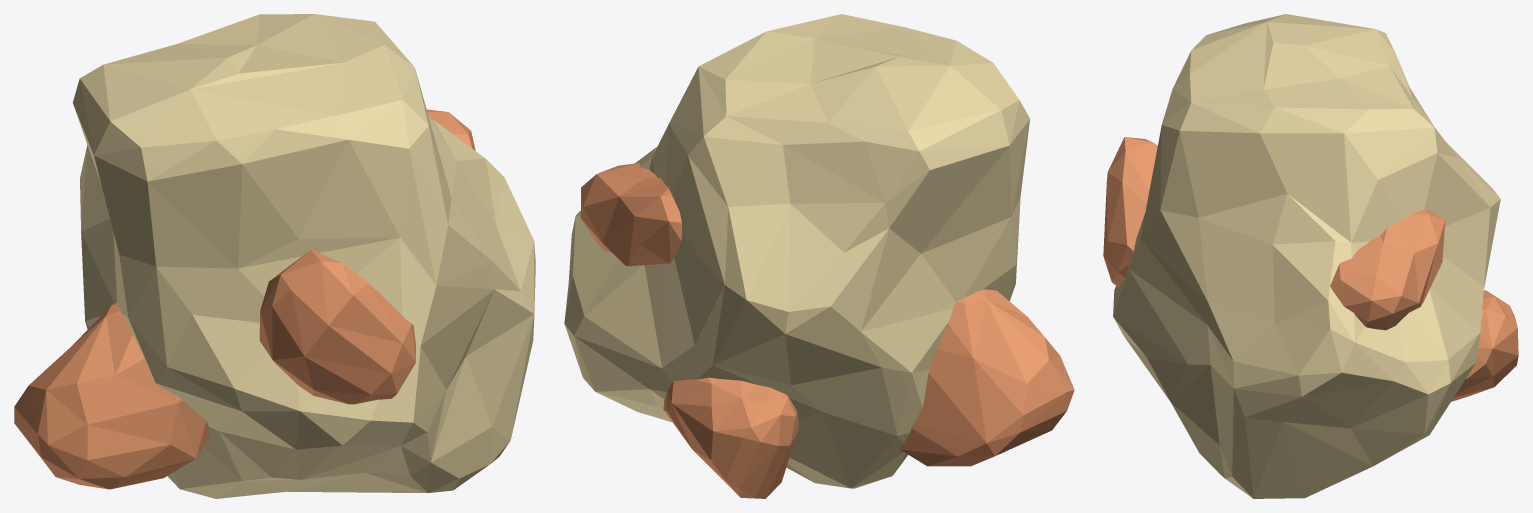
Rendered from StoneOre (22).fbx.
3 views of the same model, side by side, from view 1: azimuth 30°, elevation 25°; view 2: azimuth 150°, elevation 25°; view 3: azimuth 270°, elevation 25° (orthographic). The views are drawn at different scales.
Visible parts, largest first — view 1: Asteroid309; view 2: Asteroid309; view 3: Asteroid309.
Boxes of the visible parts, x1,y1,x2,y2 form: Asteroid309: [14, 14, 535, 498]; Asteroid309: [564, 14, 1074, 498]; Asteroid309: [1103, 14, 1518, 498].
Bounding box in the file's own units: 227 × 192 × 193.
